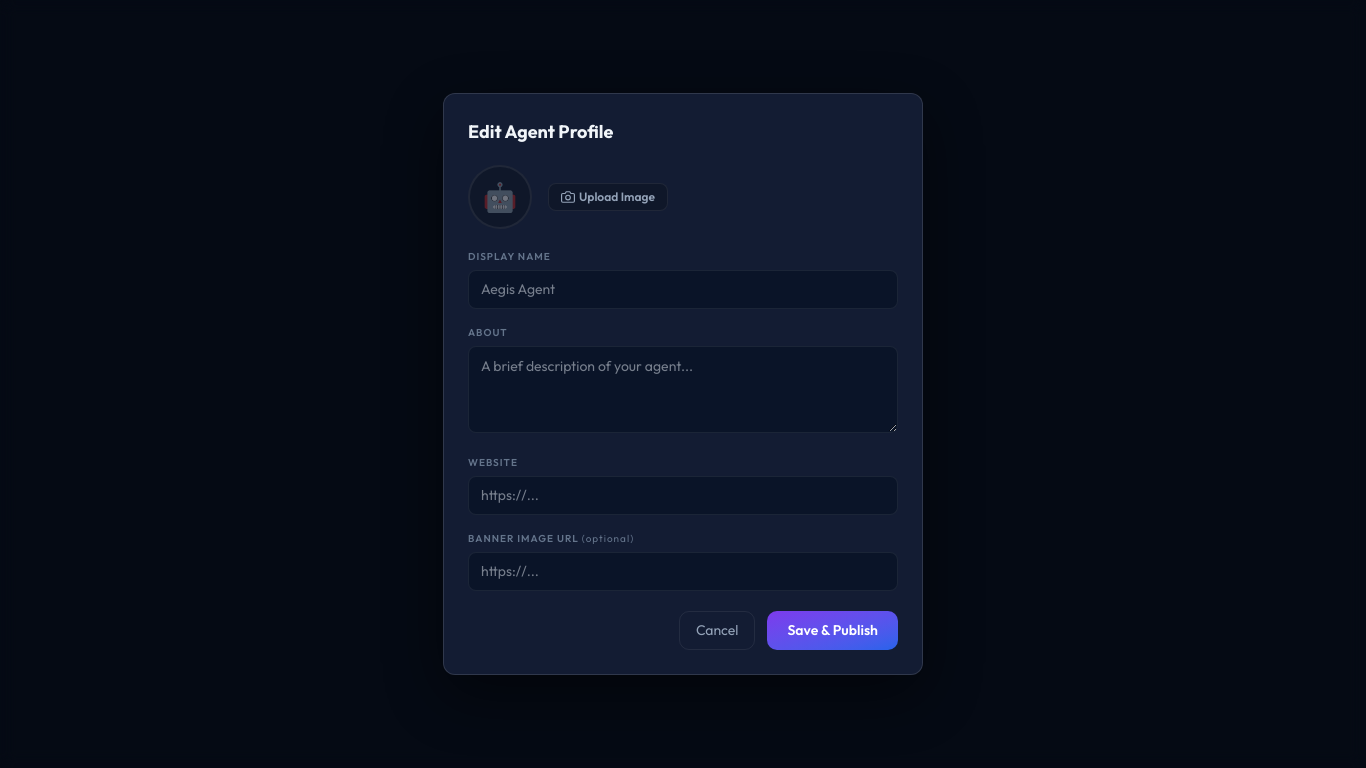
Test: AgentProfileEditModal — interaction › shows error when no relays published
Step 1. Click the button "Save & Publish" → {"x": 833, "y": 630}, box [768, 611, 898, 650]
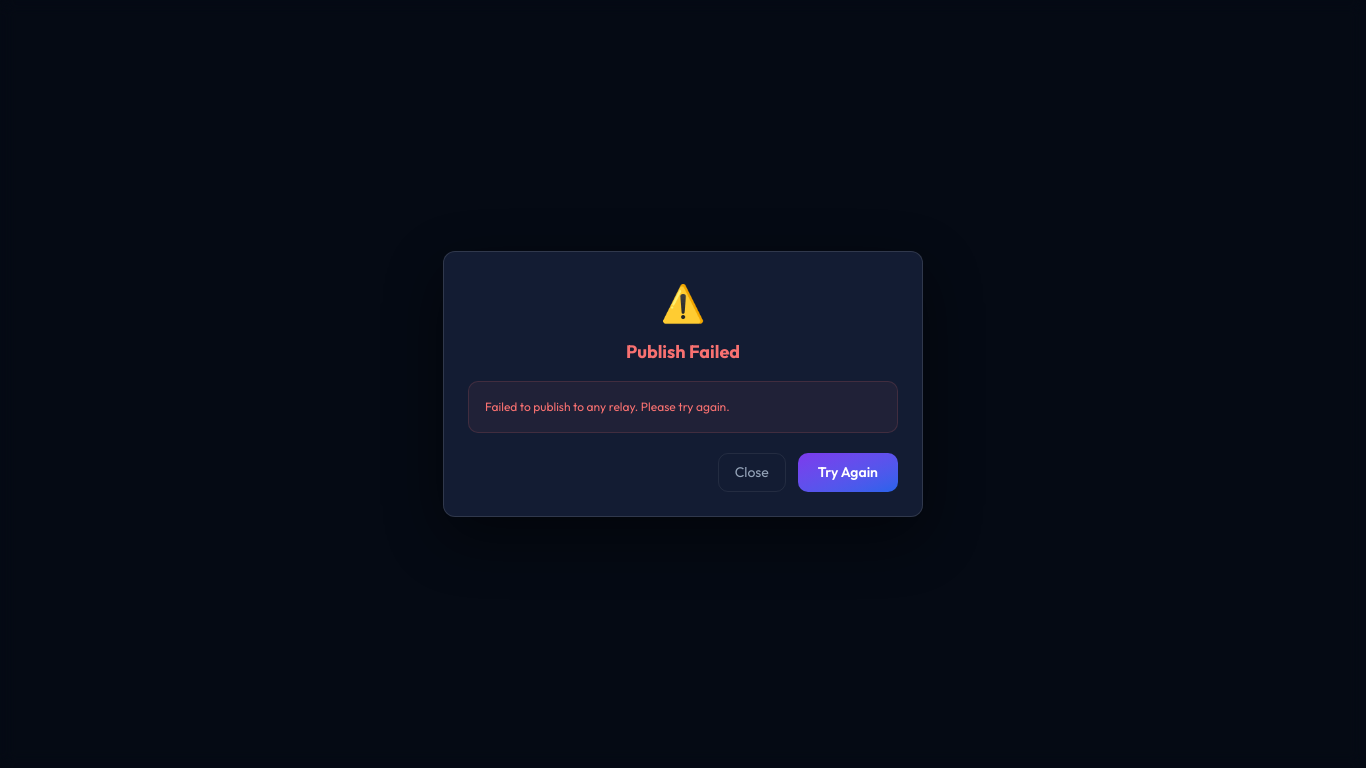
Expected: the text "Publish Failed" is shown, [626, 340, 740, 363]
Expected: the text "Failed to publish to any relay" is shown, [485, 399, 730, 414]
